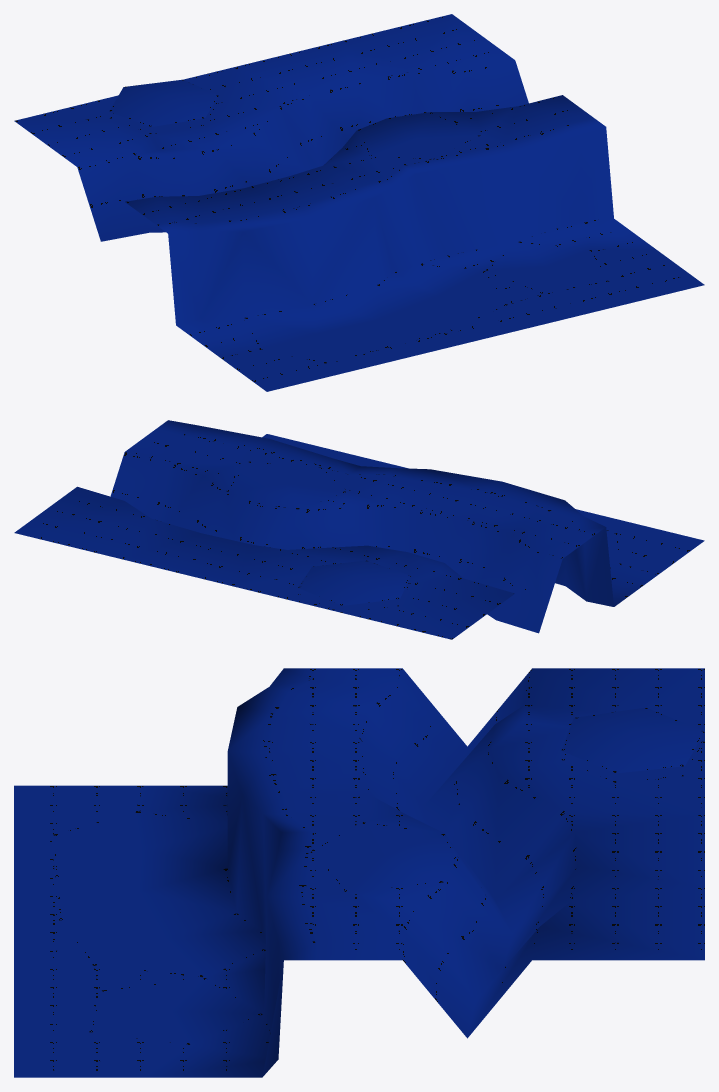
The model's file is GRD_S_C1_R3_3.fbx.
3 renders of one model, top to bottom at view 1: azimuth 30°, elevation 25°; view 2: azimuth 150°, elevation 25°; view 3: azimuth 270°, elevation 25°, orthographic. The views are drawn at different scales.
Visible parts, largest first — view 1: material_00022000, material_00042000, material_C0052000, material_C0032000, material_C0012000, material_C0062000; view 2: material_00022000, material_C0052000, material_00042000, material_C0032000, material_C0012000, material_C0062000; view 3: material_00022000, material_C0032000, material_C0052000, material_00042000, material_C0012000, material_C0062000.
Part boxes in pixels (x1,y1,x2,y2): material_00022000: [14, 14, 704, 391]; material_00042000: [156, 118, 613, 325]; material_C0052000: [77, 60, 528, 241]; material_C0032000: [243, 112, 610, 363]; material_C0012000: [109, 79, 218, 126]; material_C0062000: [109, 101, 218, 134]; material_00022000: [14, 429, 704, 639]; material_C0052000: [110, 452, 562, 633]; material_00042000: [156, 420, 613, 606]; material_C0032000: [226, 461, 622, 568]; material_C0012000: [298, 560, 410, 605]; material_C0062000: [298, 582, 410, 612]; material_00022000: [14, 668, 704, 1077]; material_C0032000: [51, 810, 457, 1044]; material_C0052000: [359, 668, 577, 1038]; material_00042000: [227, 668, 317, 1077]; material_C0012000: [561, 707, 704, 773]; material_C0062000: [561, 739, 704, 783].
Bounding box in the file's own units: 12800 × 2800 × 12800.
